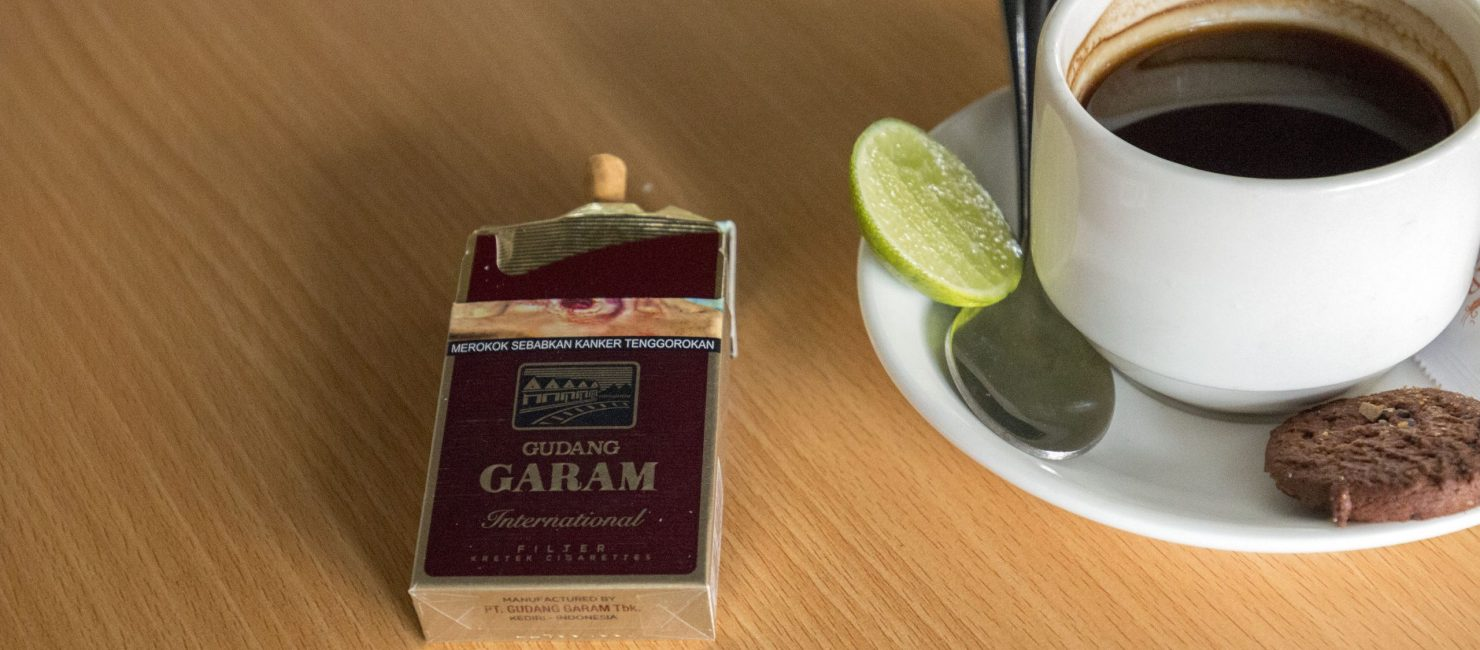garam filter: (407, 189, 751, 650)
